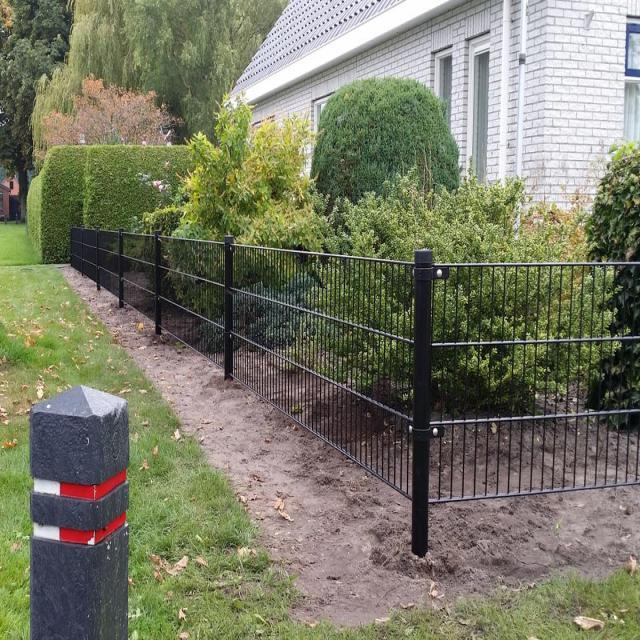fence line: (385, 218, 640, 548), (224, 261, 427, 522), (66, 226, 247, 379)
